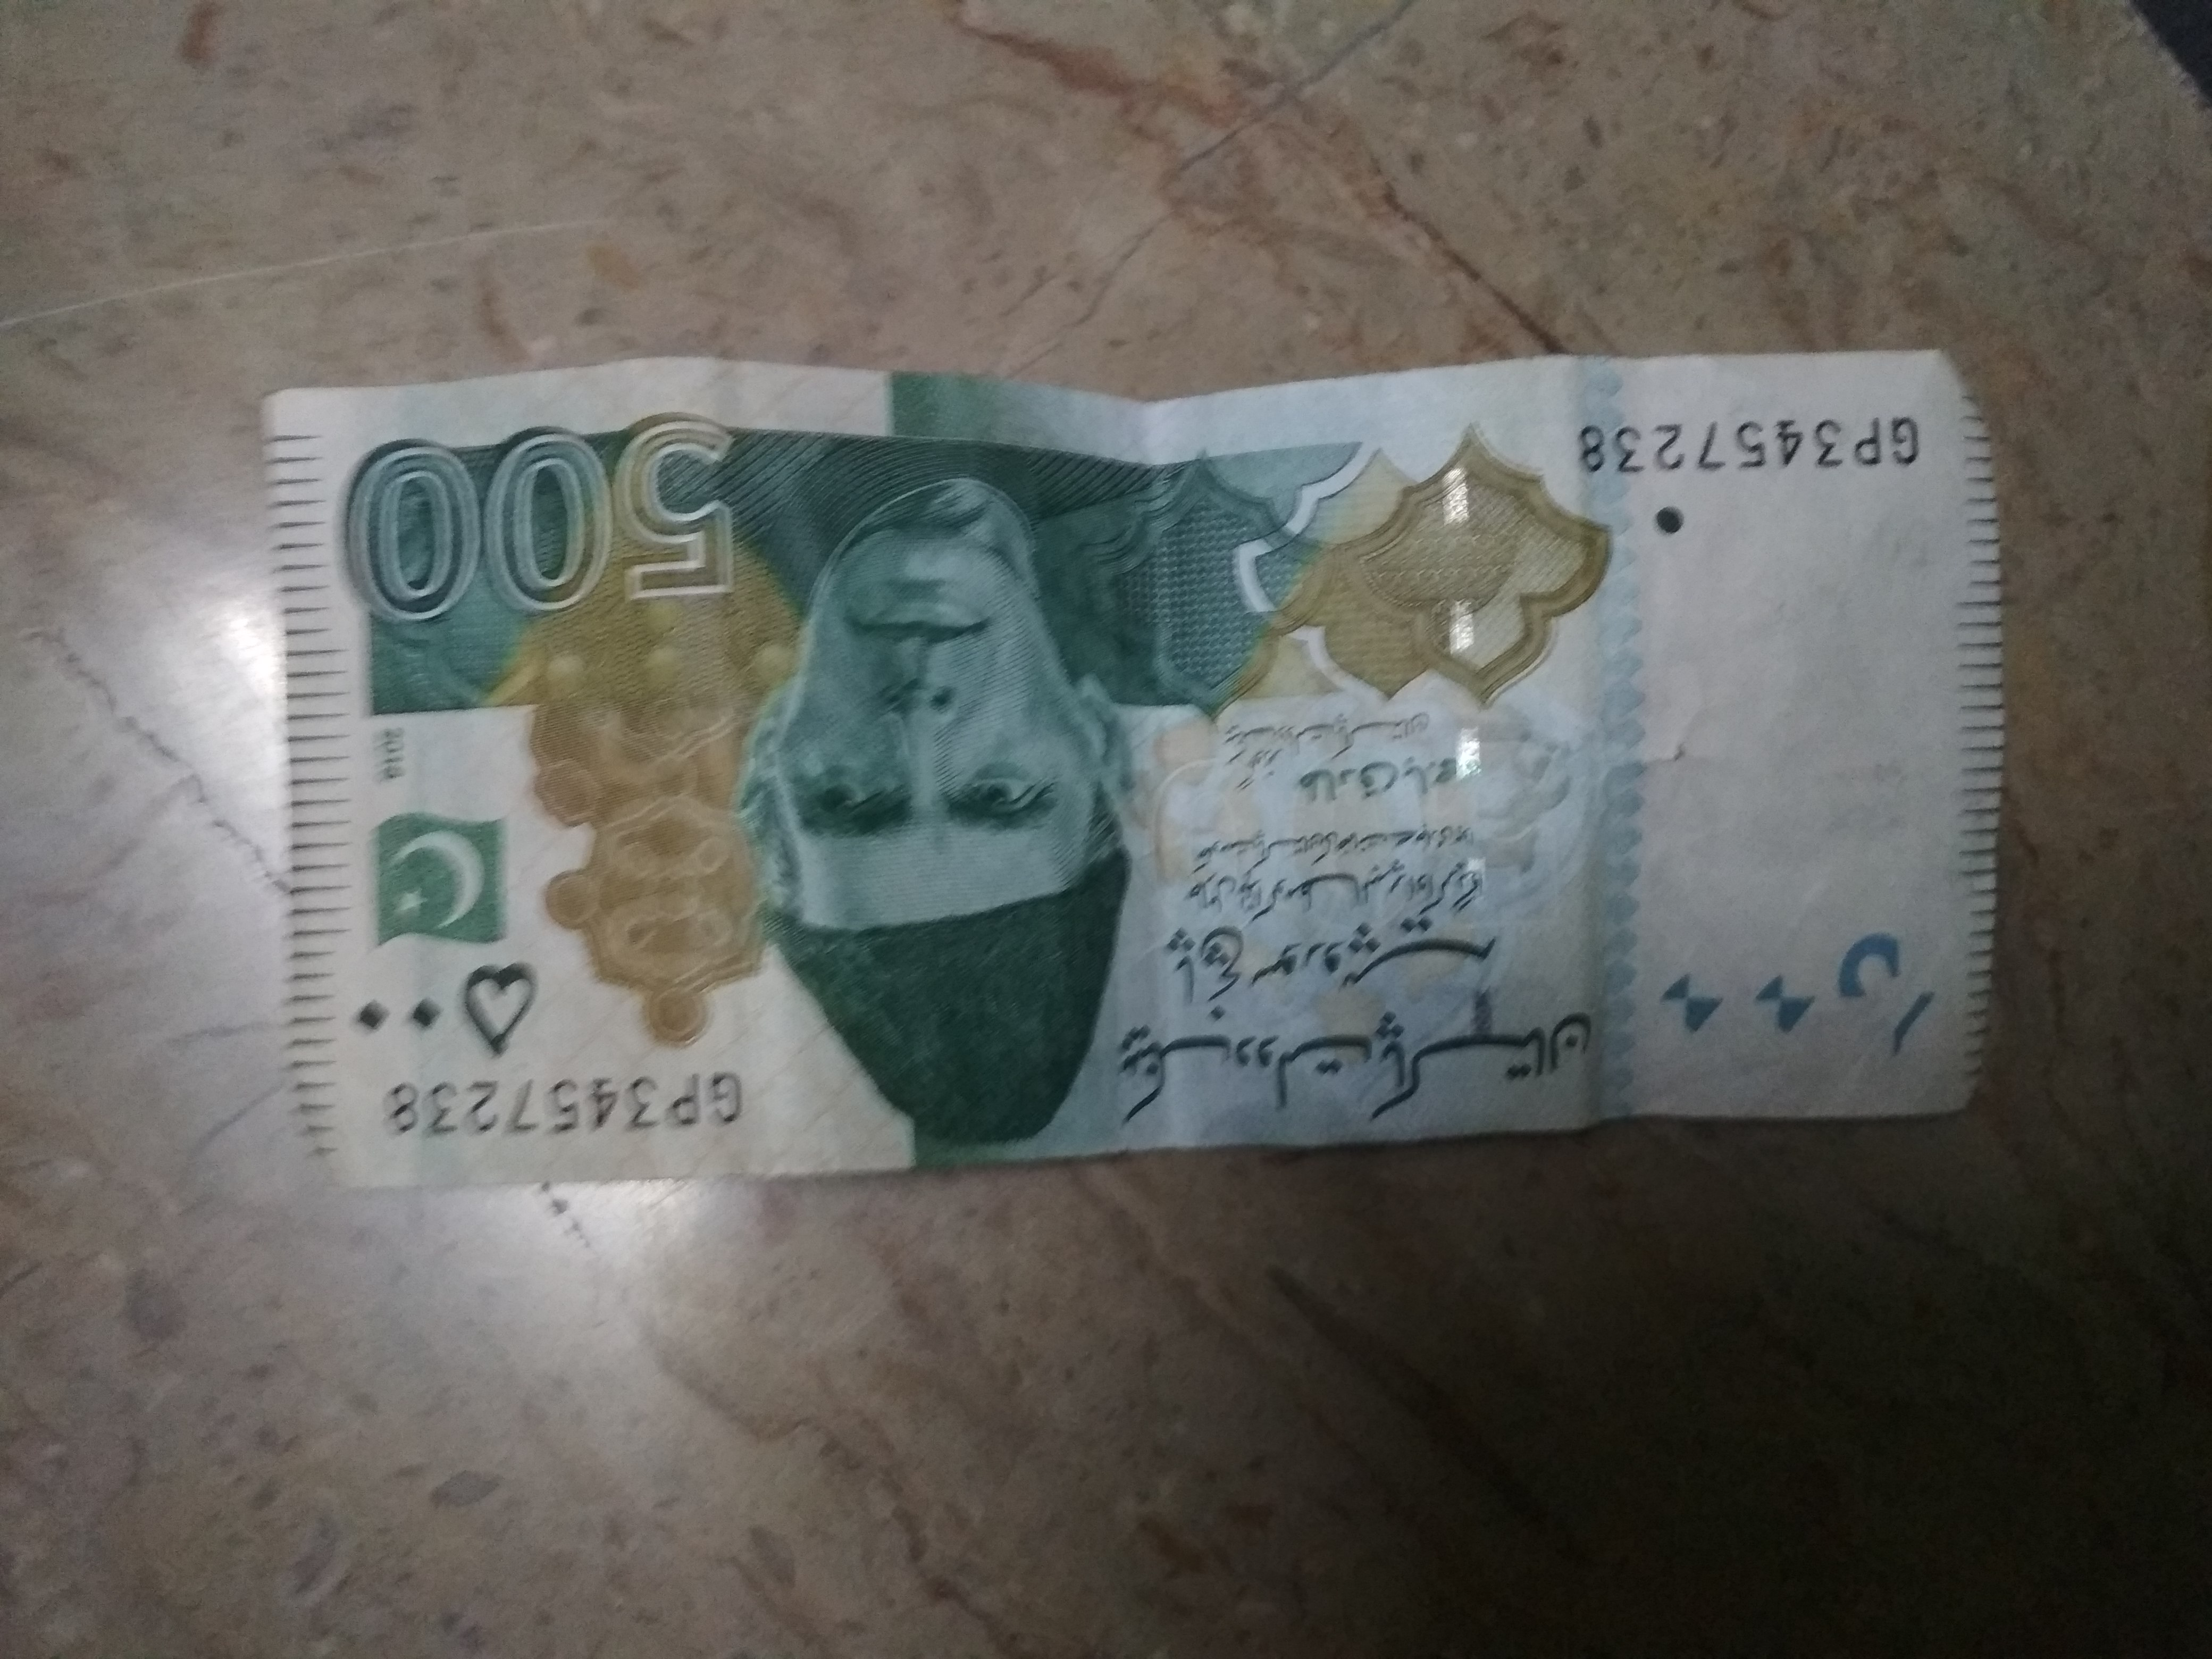500 rupee: (260, 354, 2031, 1133)
